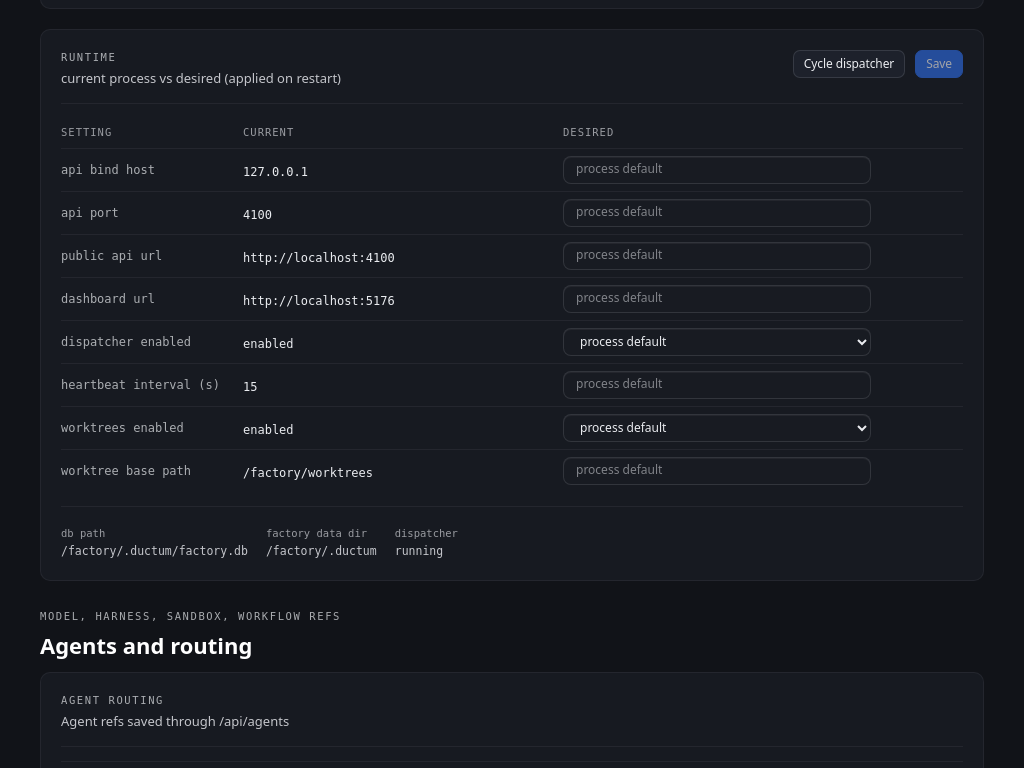
Test case: Settings runtime panel › reports a runtime write as restart-required instead of applied
This screenshot has width=1024, height=768.
(page scrolled)
Type "30" into the field named "heartbeat interval (s) desired value" at [717, 384], box [563,370,871,398]
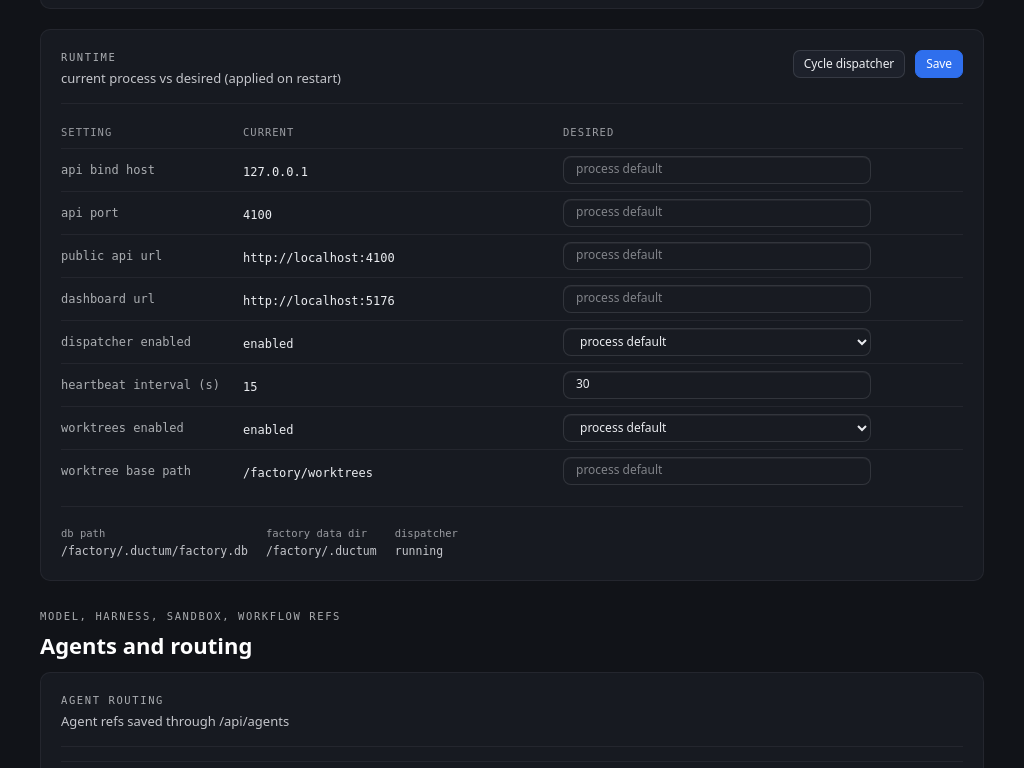
Click the button with aria-label "Save runtime settings" at [939, 64], box [915,50,963,78]
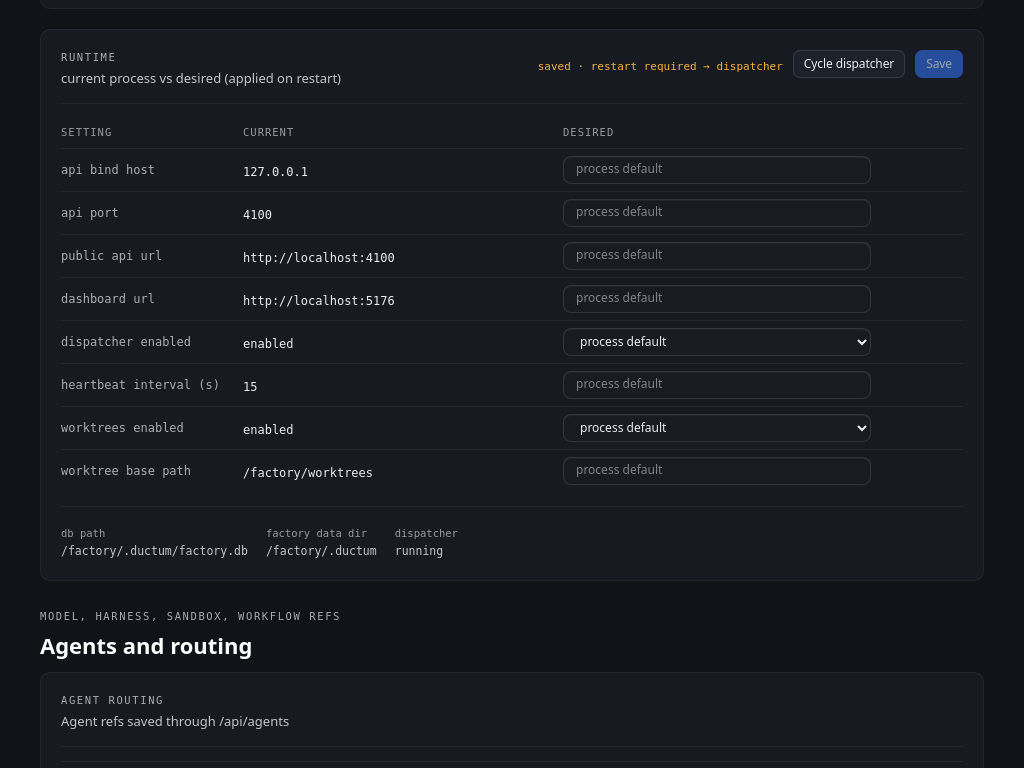
Expected: the element with test id "runtime-settings-status" does not show "saved · applied", [538,60,783,72]
Expected: the element with test id "runtime-settings-status" shows "restart required → dispatcher", [538,60,783,72]
